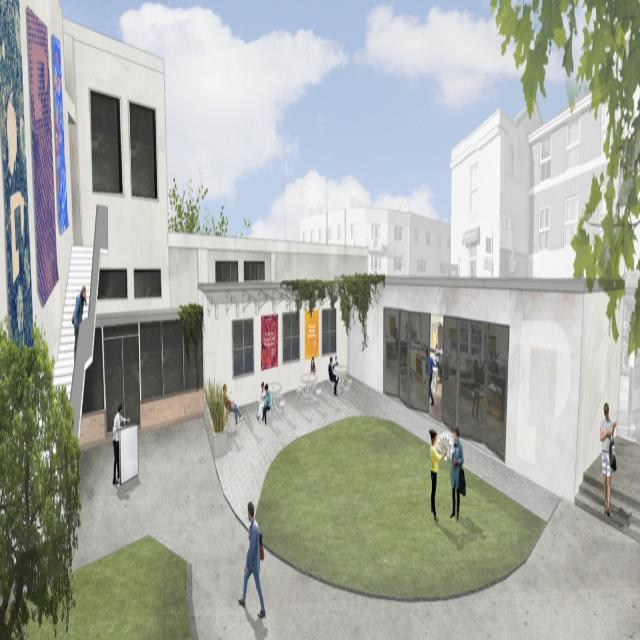body: (236, 499, 267, 619), (599, 401, 618, 518), (428, 427, 448, 523), (448, 424, 466, 522), (110, 401, 131, 485), (70, 284, 88, 362), (222, 383, 244, 428), (424, 346, 436, 407), (472, 358, 482, 422), (260, 382, 272, 427), (256, 381, 268, 422), (328, 354, 339, 396), (488, 353, 501, 378), (332, 354, 341, 384), (310, 357, 316, 372)
